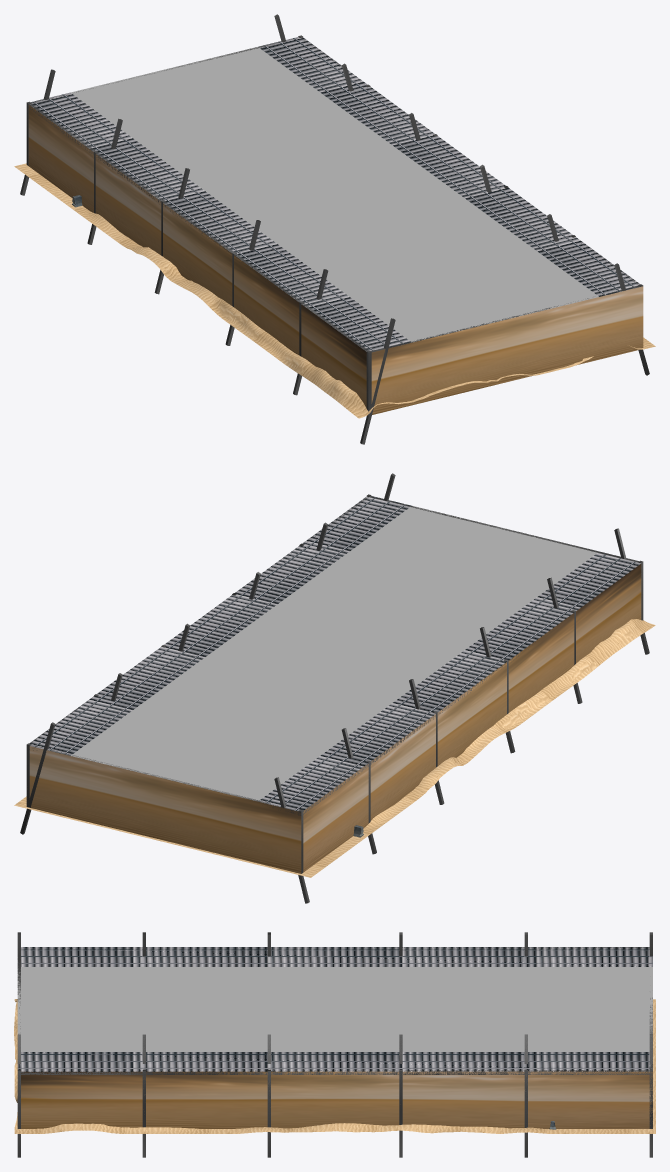
File: palya.fbx
3 views of the same model, one above another, from view 1: azimuth 30°, elevation 25°; view 2: azimuth 150°, elevation 25°; view 3: azimuth 270°, elevation 25° (orthographic). The views are drawn at different scales.
Parts seen in each view (by area): view 1: Cube; view 2: Cube; view 3: Cube.
Boxes of the visible parts, left/top/right/bottom form: Cube: left=14, top=14, right=655, bottom=444; Cube: left=14, top=473, right=655, bottom=903; Cube: left=14, top=932, right=655, bottom=1157.
Bounding box in the file's own units: 4316 × 1629 × 8622.
